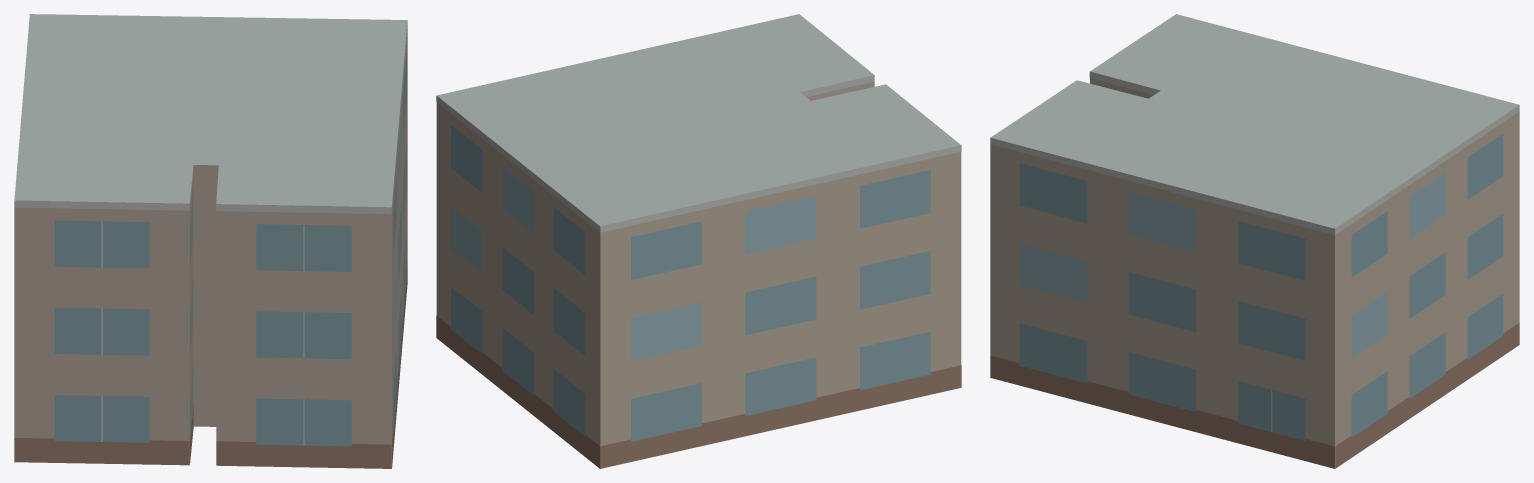
Rendered from survey-upis-32748022.glb.
3 views of the same model, side by side, from view 1: azimuth 30°, elevation 25°; view 2: azimuth 150°, elevation 25°; view 3: azimuth 270°, elevation 25° (orthographic). The views are drawn at different scales.
Parts seen in each view (by area): view 1: survey-upis-32748022.tmp; view 2: survey-upis-32748022.tmp; view 3: survey-upis-32748022.tmp.
Boxes of the visible parts, box(x1,y1,x2,y2) form: survey-upis-32748022.tmp: box(14, 14, 407, 468); survey-upis-32748022.tmp: box(436, 14, 961, 468); survey-upis-32748022.tmp: box(990, 14, 1519, 468).
Bounding box in the file's own units: 17.57 × 9.15 × 18.3.
